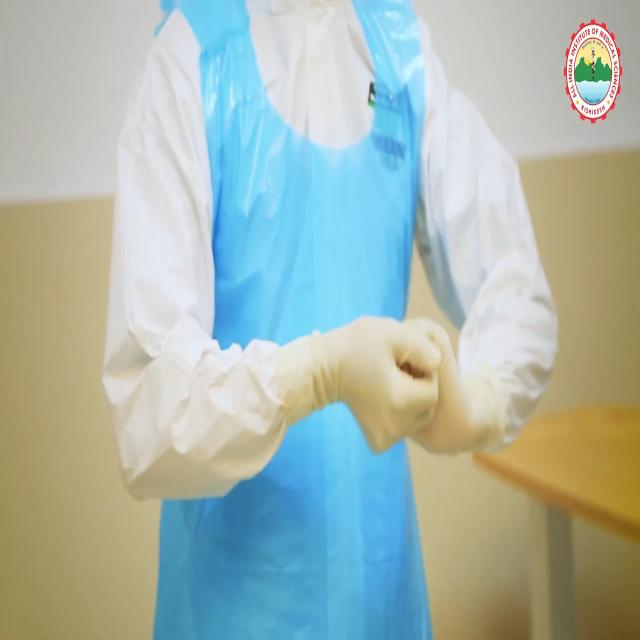Gloves: (279, 302, 441, 465)
